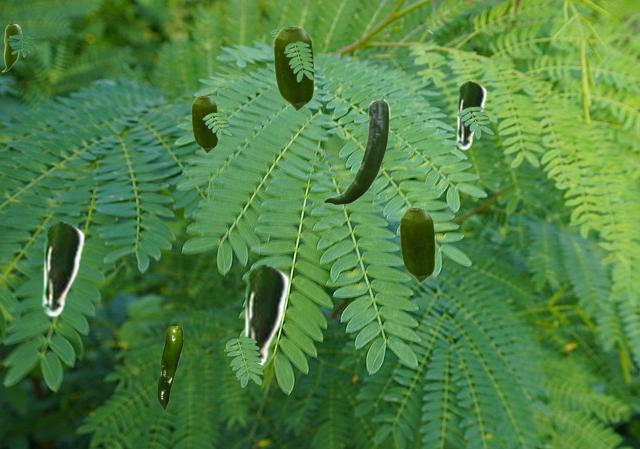green_chili: (323, 99, 389, 204), (240, 263, 289, 367), (39, 220, 84, 316), (273, 27, 313, 110), (399, 208, 434, 282), (454, 80, 486, 149), (157, 326, 182, 409), (191, 96, 217, 152), (1, 24, 20, 71)
